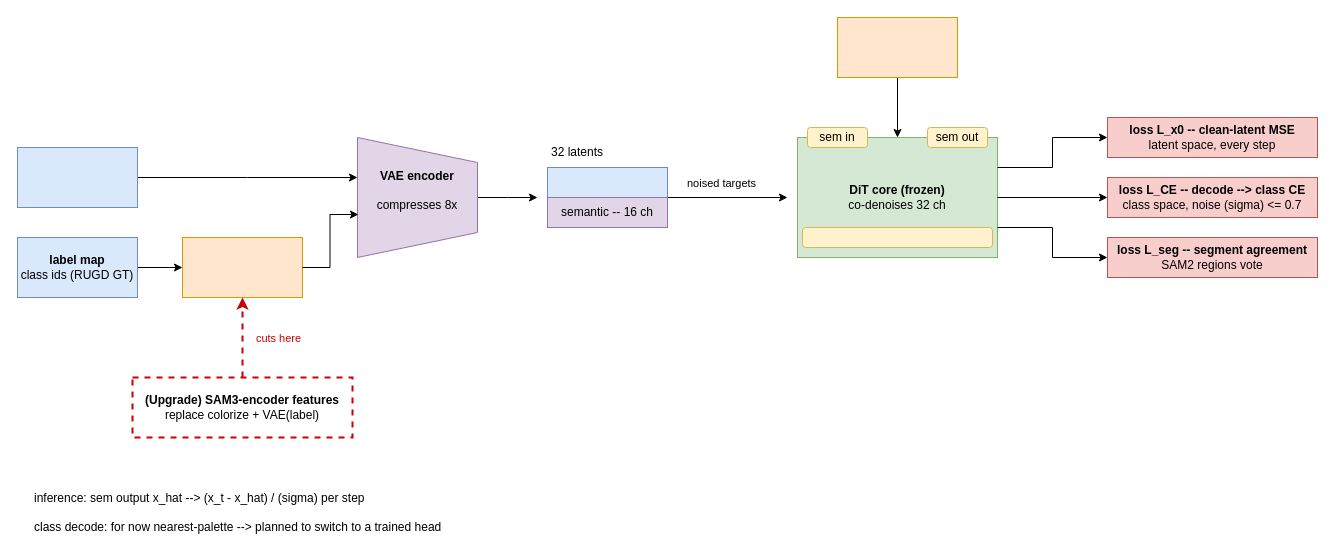
This 1335x551 diagram has some shape labels left out. Each missing label, with the centre of its shape:
"colorize class --> color" goes at (242,267).
"control branch rough render (hint)" goes at (897,47).
"RGB -- 16 ch" goes at (607,182).
"RGB frames clean targets" goes at (77,177).
"trunk LoRA r8 (shared train part)" goes at (897,237).
